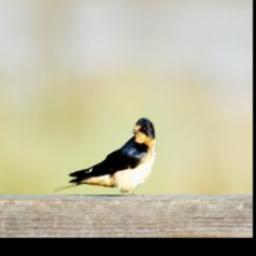Swallow: (52, 116, 157, 199)
